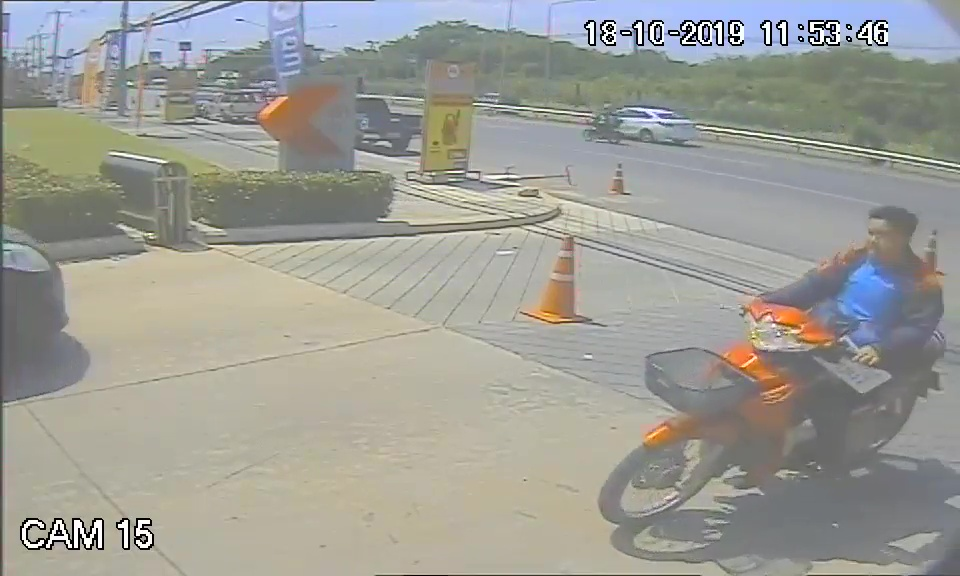motorcycle: (590, 305, 851, 531)
